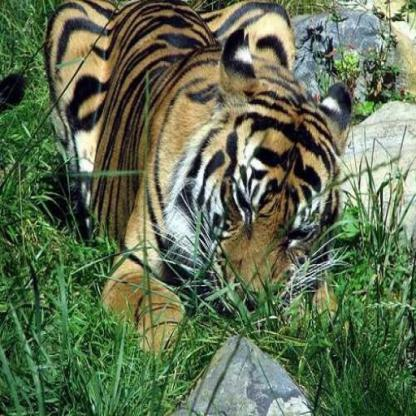Tiger: (34, 0, 370, 366)
